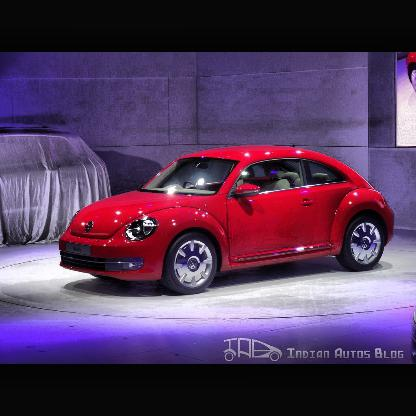Volkswagen Beetle Hatchback 2012: (59, 146, 395, 295)
